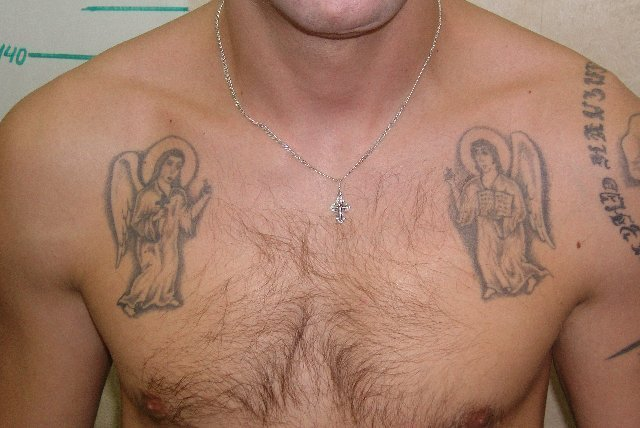tatu1_angel: (435, 120, 572, 306), (96, 125, 224, 319)
tatu3_bukva: (573, 56, 640, 259)
